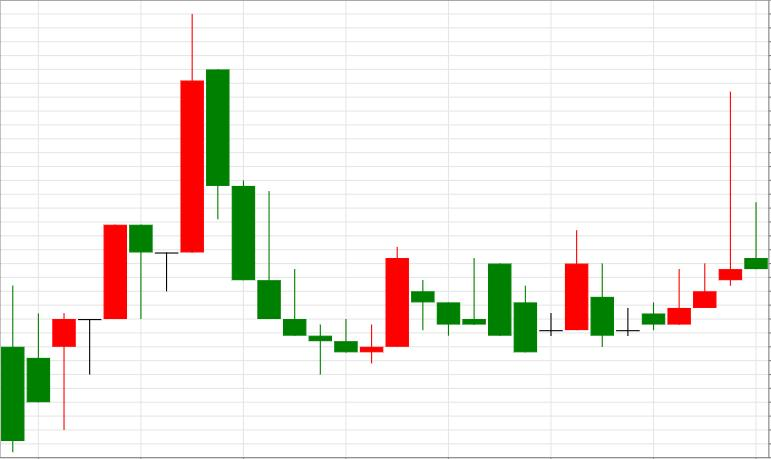three_black_crows_fall: (53, 13, 281, 429)
